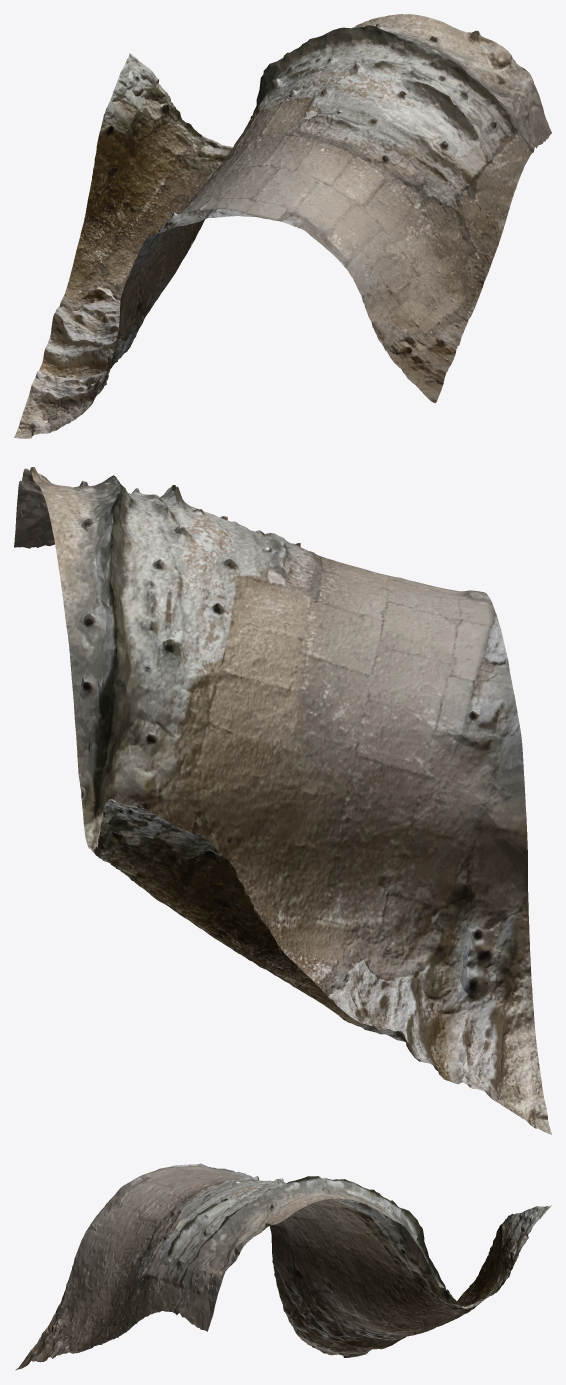
The model's file is tile_3_6.obj.
3 views of the same model, one above another, from view 1: azimuth 30°, elevation 25°; view 2: azimuth 150°, elevation 25°; view 3: azimuth 270°, elevation 25° (orthographic). The views are drawn at different scales.
Visible parts, largest first — view 1: texture_0; view 2: texture_0; view 3: texture_0.
Part boxes in pixels (<box>): texture_0: <box>14,14,551,438</box>; texture_0: <box>14,467,551,1134</box>; texture_0: <box>15,1163,551,1370</box>.
Bounding box in the file's own units: 0.4195 × 0.3033 × 0.436.
Materials: 1 (1 with a texture image).
